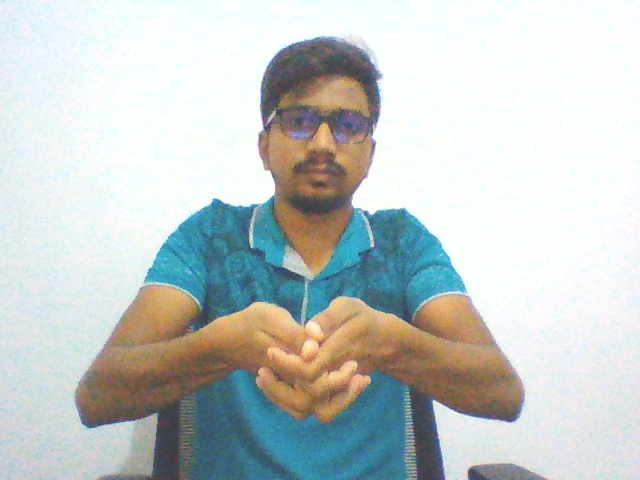mangosteen: (206, 288, 400, 430)
